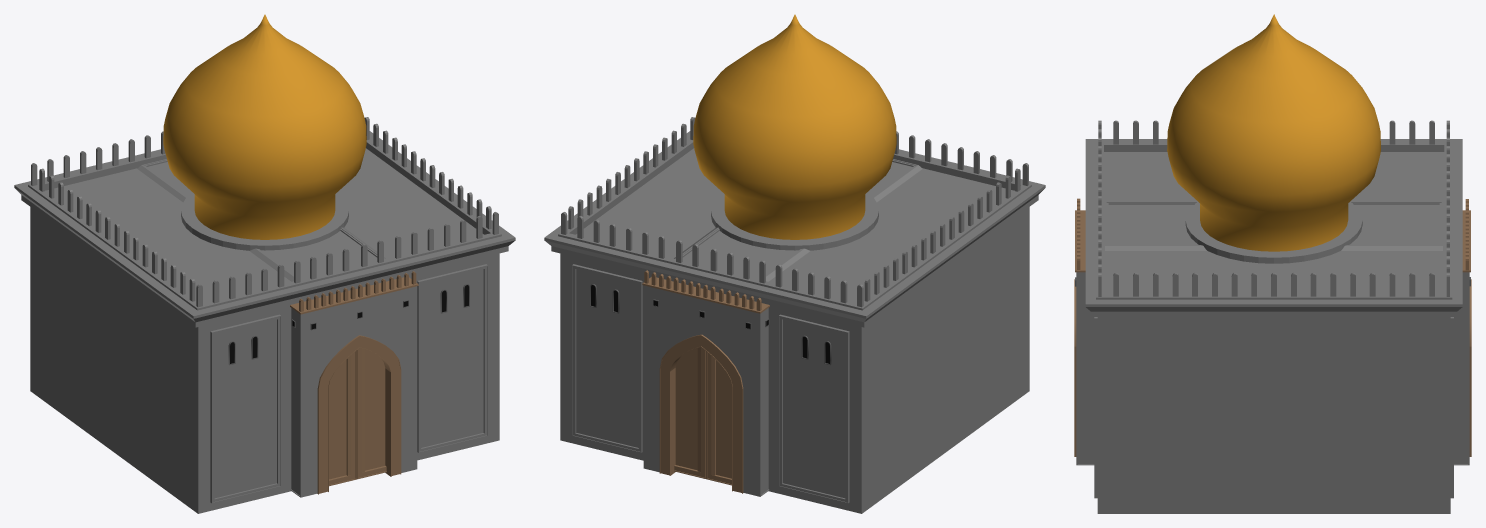
File: SM_mosque_small.fbx
3 views of the same model, side by side, from view 1: azimuth 30°, elevation 25°; view 2: azimuth 150°, elevation 25°; view 3: azimuth 270°, elevation 25° (orthographic). The views are drawn at different scales.
Parts seen in each view (by area): view 1: Cylinder065; view 2: Cylinder065; view 3: Cylinder065.
Part boxes in pixels (bbox=[...]): Cylinder065: bbox=[14, 14, 515, 513]; Cylinder065: bbox=[544, 14, 1045, 513]; Cylinder065: bbox=[1074, 14, 1471, 513].
Size of the model in its own units: 733 by 744 by 873.
